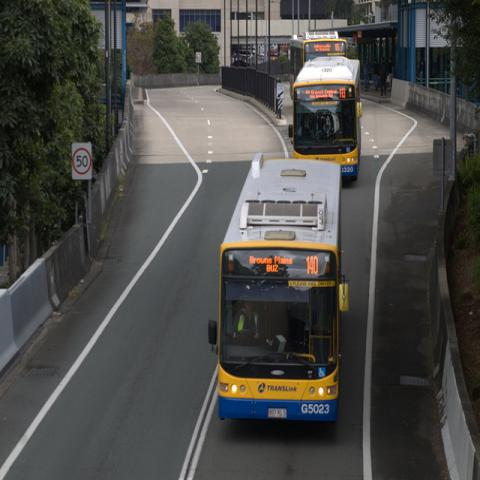bus: (208, 152, 349, 420), (291, 60, 362, 181), (289, 39, 344, 94)
